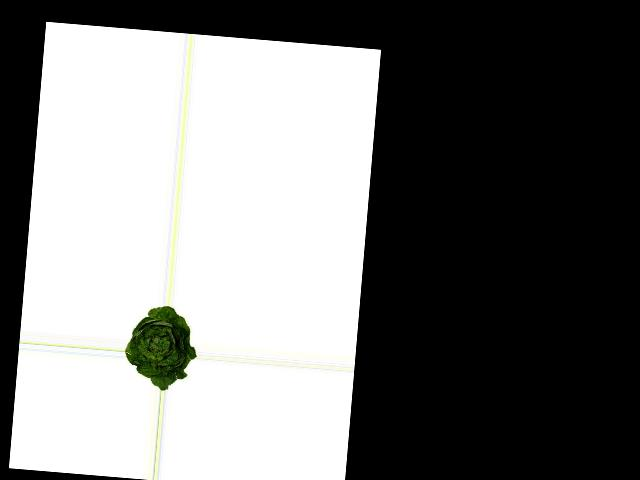lettuce: (123, 302, 200, 390)
